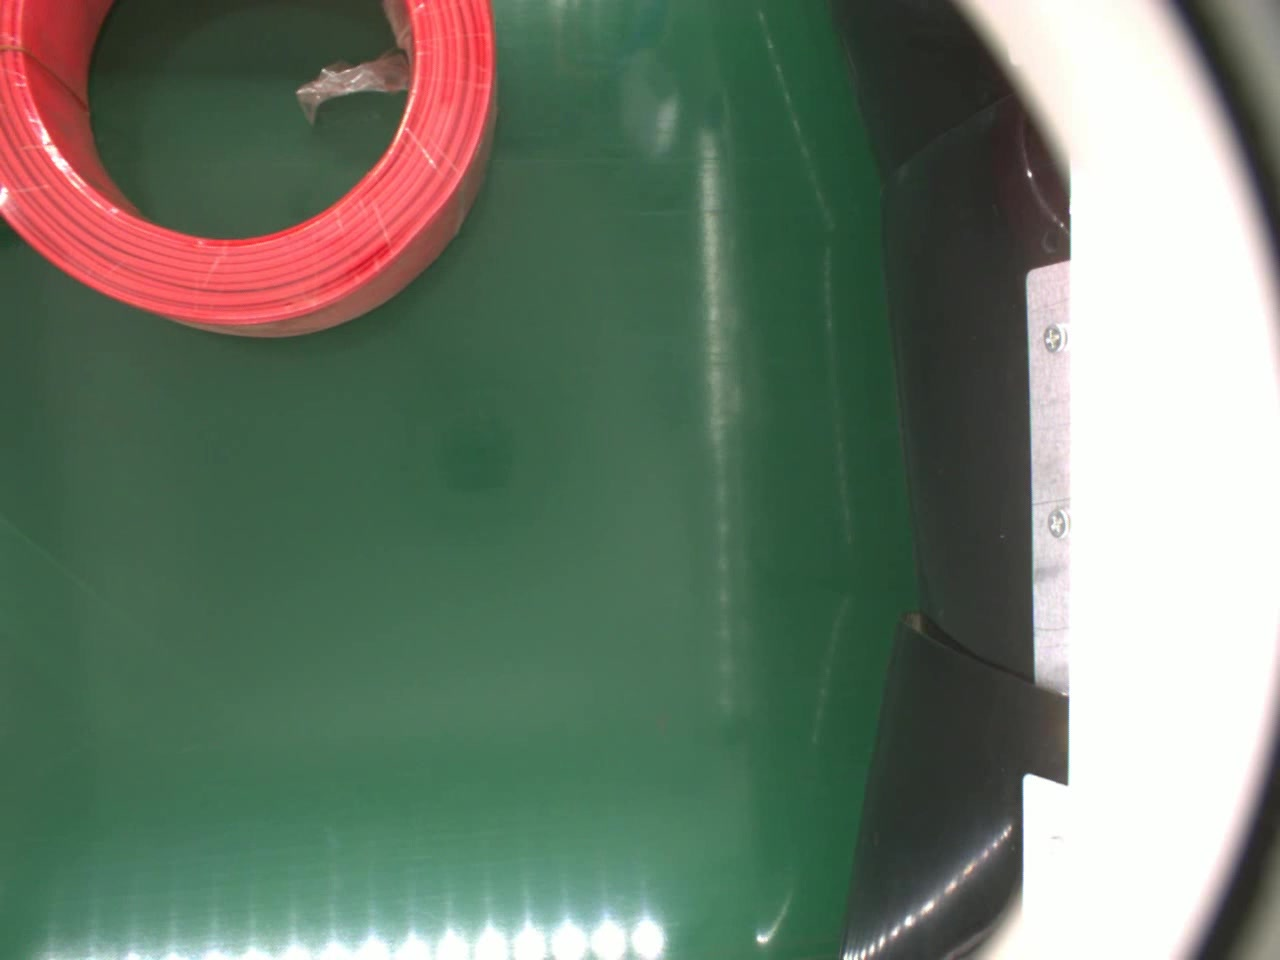red: (0, 2, 499, 339)
